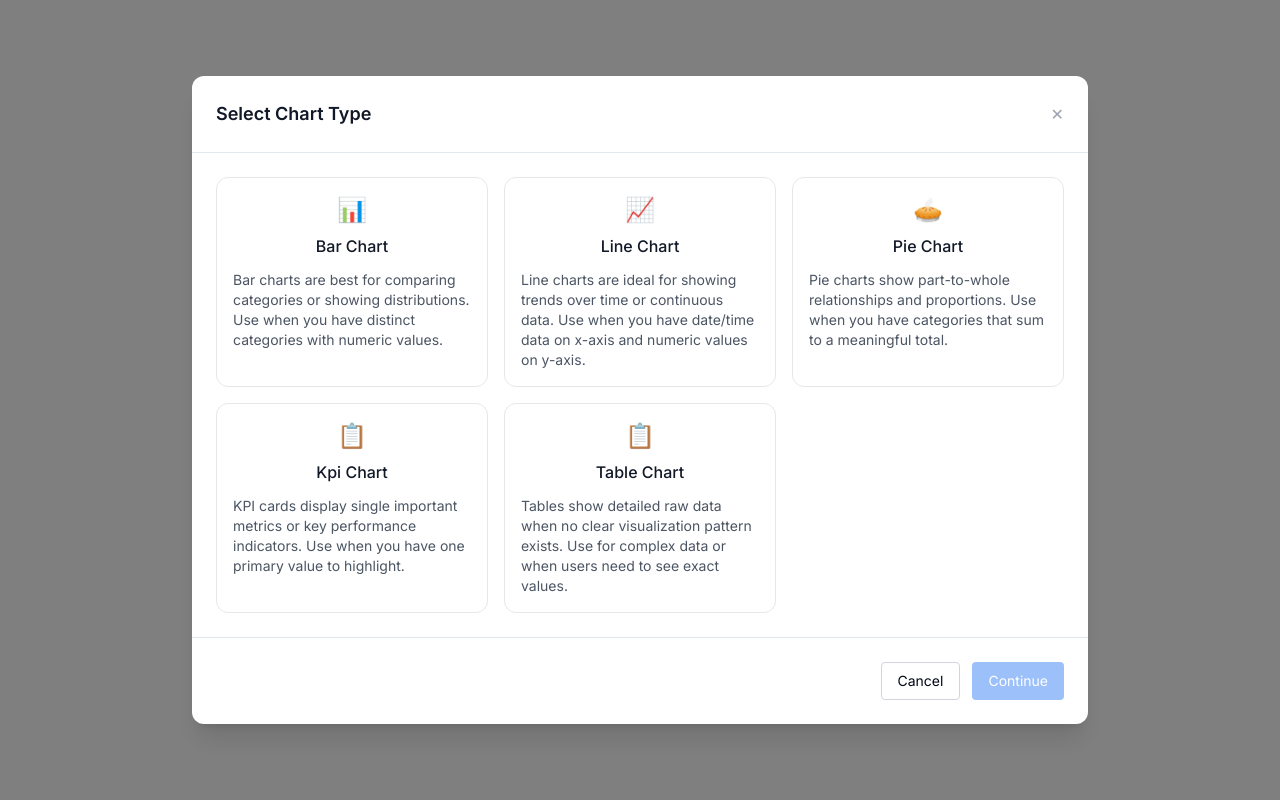
ChartGenerationModal › enables Continue after selecting a chart type in create mode
Expected: the button "Continue" is disabled, [972,662,1064,700]
Click the element that starts with "bar".
click(352, 282)  # box [216,177,488,387]
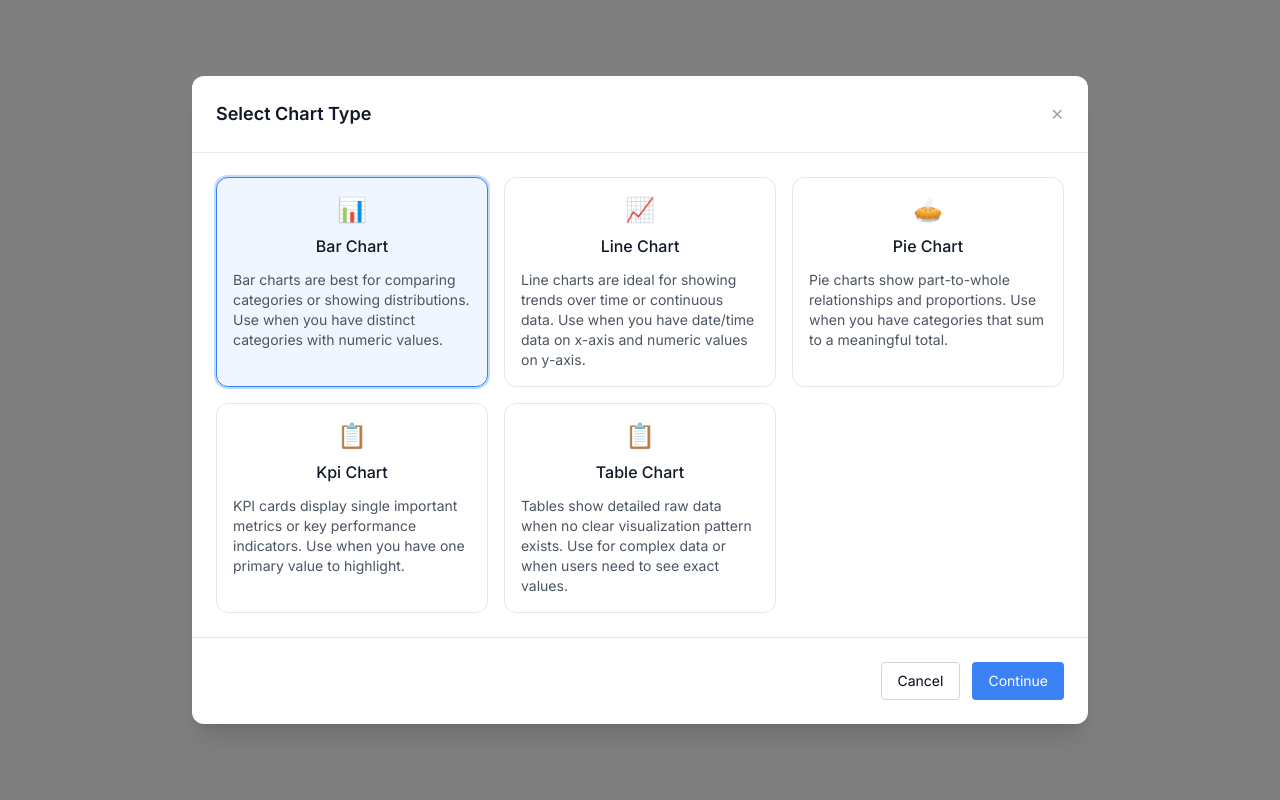
Expected: the button "Continue" is enabled, [972,662,1064,700]
